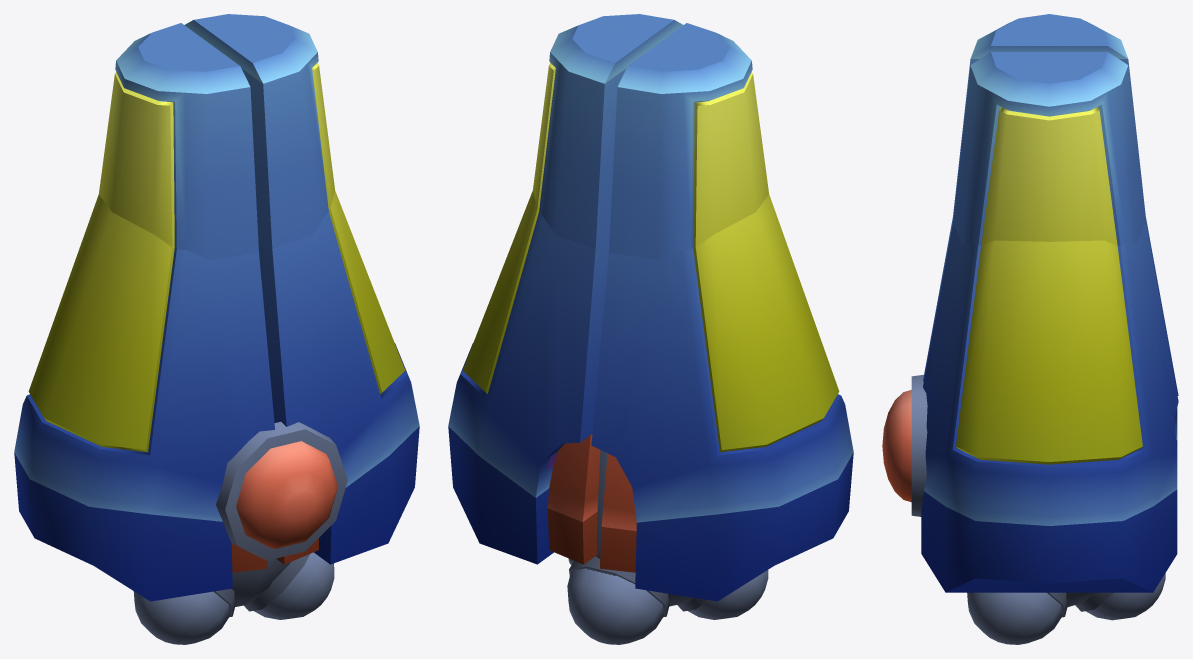
The model's file is Enemies.fbx.
3 views of the same model, side by side, from view 1: azimuth 30°, elevation 25°; view 2: azimuth 150°, elevation 25°; view 3: azimuth 270°, elevation 25° (orthographic).
Visible parts, largest first — view 1: Heavy, Small; view 2: Heavy, Small; view 3: Heavy, Small.
Boxes of the visible parts, left/top/right/bottom form: Heavy: left=14, top=14, right=419, bottom=601; Small: left=133, top=538, right=334, bottom=644; Heavy: left=448, top=14, right=853, bottom=601; Small: left=547, top=434, right=768, bottom=644; Heavy: left=882, top=14, right=1178, bottom=592; Small: left=967, top=573, right=1165, bottom=644.
Bounding box in the file's own units: 10.39 × 15.16 × 7.2.
